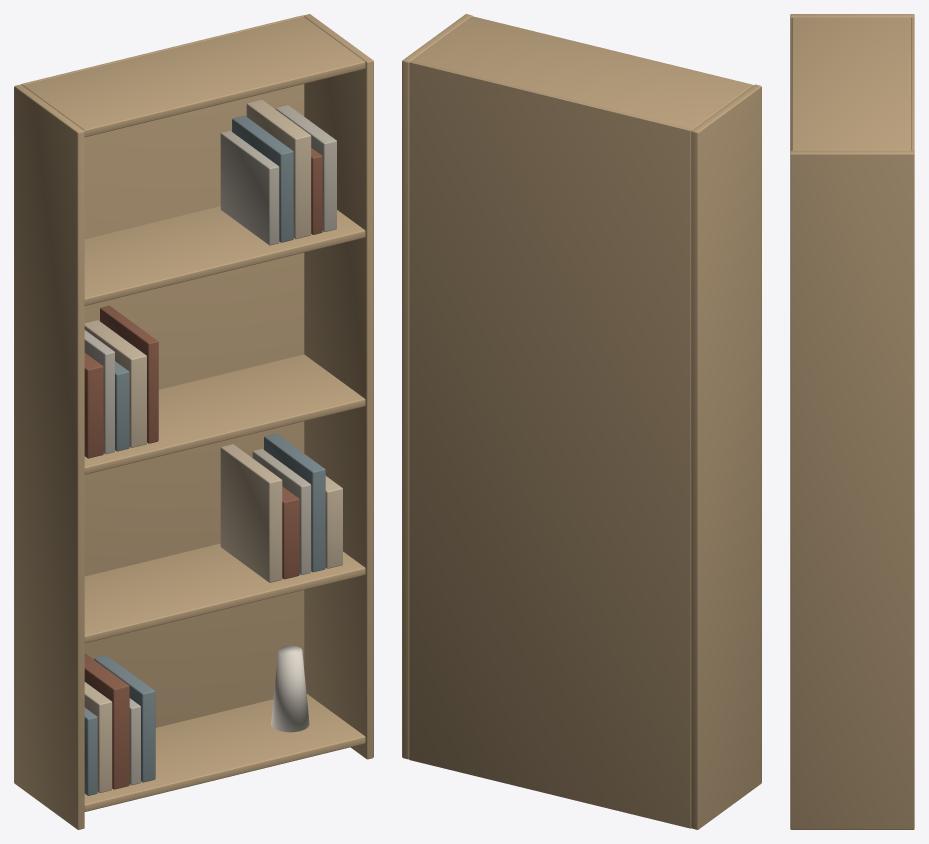
Rendered from shelf.glb.
3 renders of one model, left to right at view 1: azimuth 30°, elevation 25°; view 2: azimuth 150°, elevation 25°; view 3: azimuth 270°, elevation 25°, orthographic. The views are drawn at different scales.
Visible parts, largest first — view 1: back, side0, side1, board4, board2, board3, board1, board0, book1_0, book3_0, book3_2, book0_2 (+17 smaller); view 2: back, side0, board4, side1; view 3: side1, board4, side0, back.
Boxes of the visible parts, left/top/right/bottom form: back: left=21, top=15, right=304, bottom=727; side0: left=14, top=84, right=84, bottom=829; side1: left=303, top=14, right=373, bottom=759; board4: left=23, top=17, right=365, bottom=137; board2: left=84, top=354, right=365, bottom=474; board3: left=84, top=206, right=365, bottom=305; board1: left=84, top=543, right=365, bottom=643; board0: left=84, top=694, right=365, bottom=811; book1_0: left=220, top=444, right=282, bottom=582; book3_0: left=220, top=131, right=279, bottom=245; book3_2: left=246, top=99, right=311, bottom=239; book0_2: left=84, top=653, right=129, bottom=789; back: left=409, top=61, right=691, bottom=828; side0: left=691, top=84, right=761, bottom=829; board4: left=412, top=16, right=753, bottom=129; side1: left=402, top=14, right=472, bottom=759; side1: left=790, top=150, right=914, bottom=829; board4: left=792, top=17, right=911, bottom=150; side0: left=790, top=14, right=914, bottom=150; back: left=911, top=17, right=914, bottom=150.
Size of the model in its own units: 0.8 by 1.8 by 0.3.
